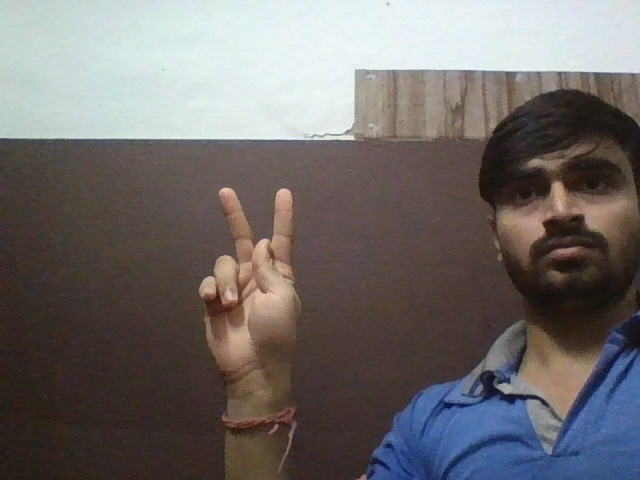K: (192, 184, 317, 383)
